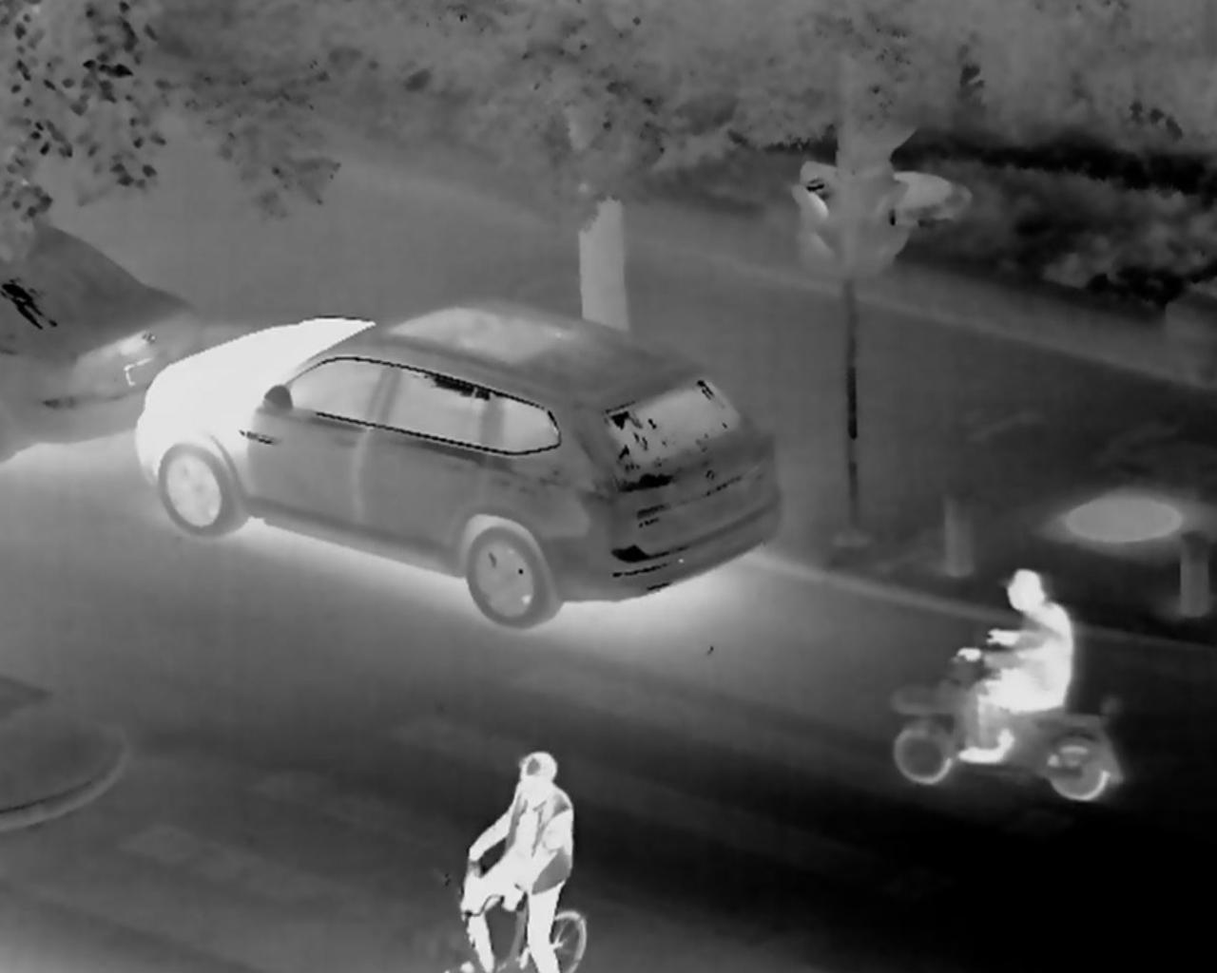person: (457, 736, 574, 973), (951, 563, 1079, 762)
